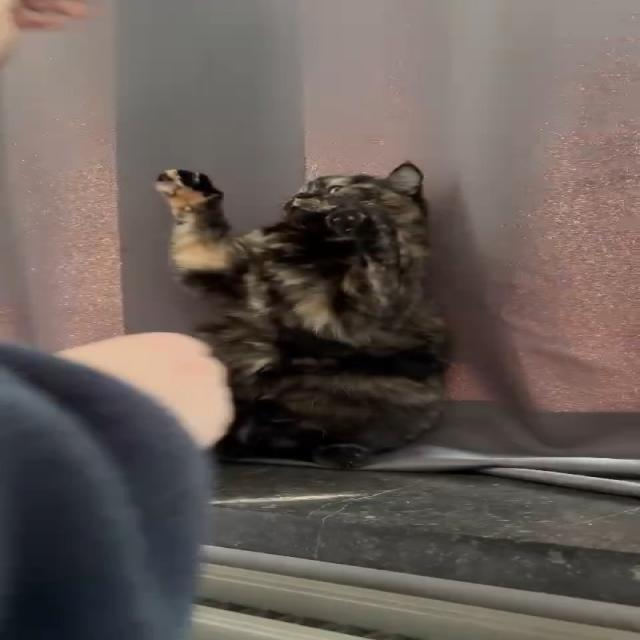authorized: (154, 160, 454, 469)
